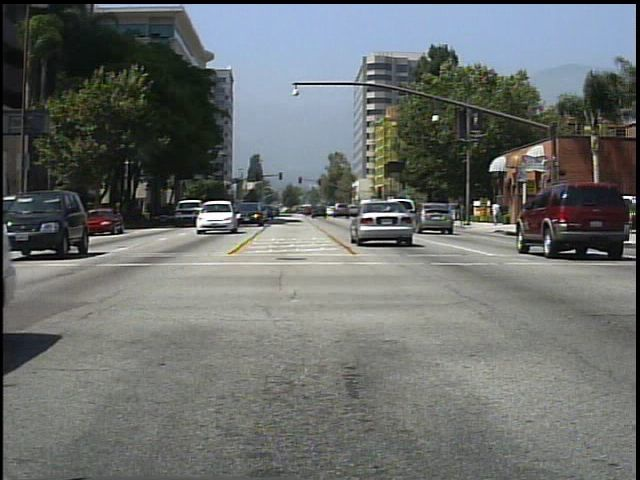person: (447, 194, 464, 229), (491, 197, 502, 226)
